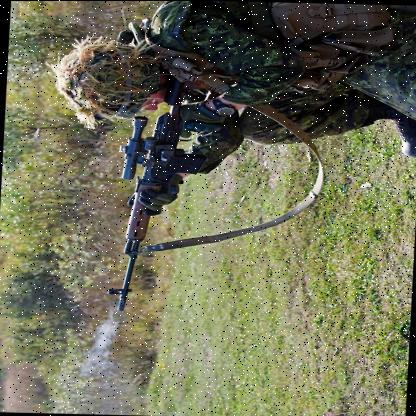rifle: (108, 70, 220, 314)
